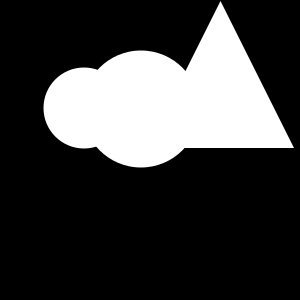rectangle: (82, 50, 200, 168), (44, 68, 125, 148)
triangle: (147, 1, 294, 148)
